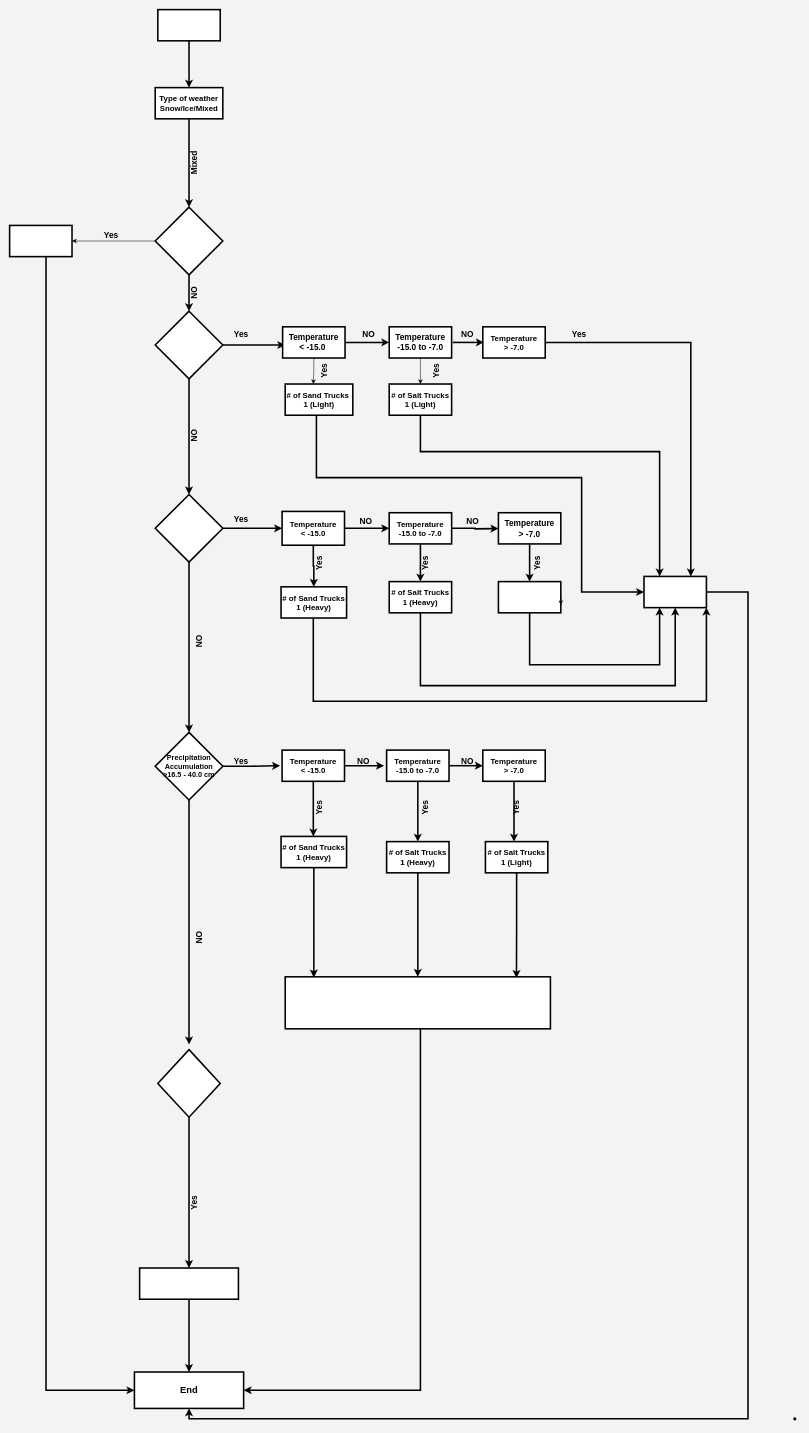
Some shapes in this 809 by 1433 pixel diagram are drawn without their labels. The shapes that lost their labels are listed below. From the top down, each one's centre as x and y in pixels, then its label:
At (x=189, y=25): "Start".
At (x=41, y=240): "No Action Required".
At (x=188, y=240): "Precipitation Accumulation <= 3.5 cm".
At (x=188, y=344): "Precipitation Accumulation >3.5 - 5.75 cm".
At (x=188, y=528): "Precipitation Accumulation >5.75 - 16.5 cm".
At (x=529, y=597): "# of Salt Trucks 1 (Normal)".
At (x=675, y=591): "# of Plow Trucks 1".
At (x=417, y=1002): "# of Plow Trucks 2".
At (x=189, y=1083): "Precipitation Accumulation >40.0 cm".
At (x=189, y=1283): "State of emergency (Organize army and other jurisdiction support)".
